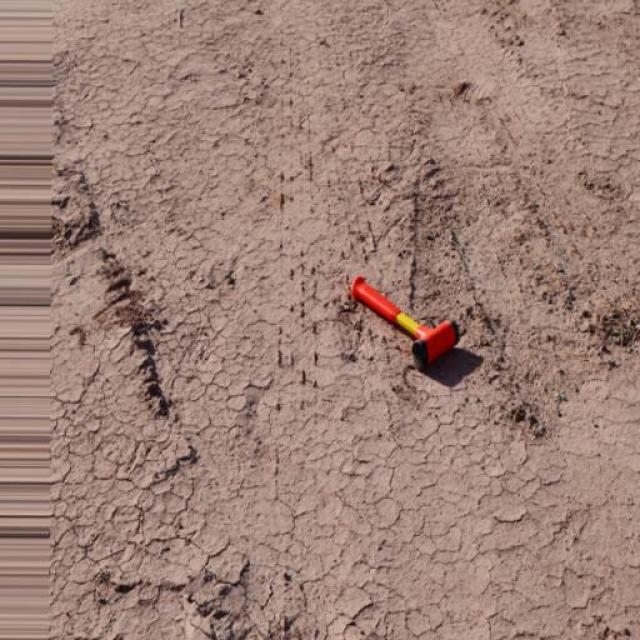mallet: (348, 273, 460, 372)
